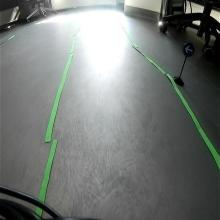left: (182, 41, 196, 59)
